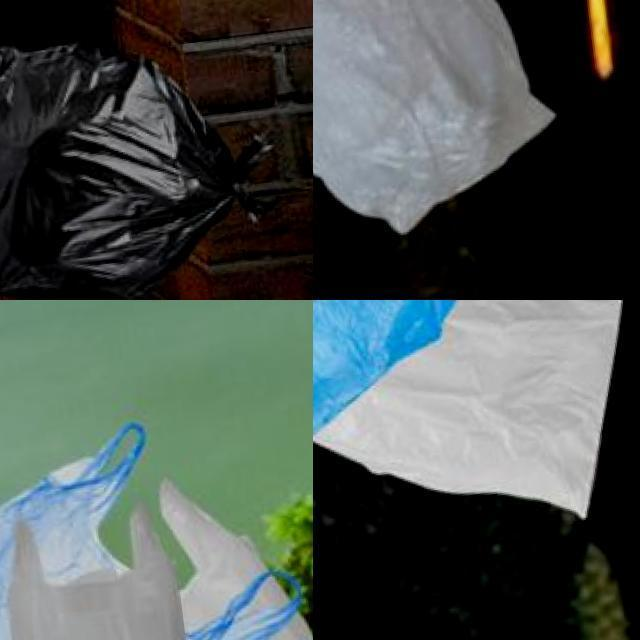waste: (0, 6, 271, 300), (0, 408, 313, 640), (313, 0, 571, 258), (76, 461, 313, 640), (313, 300, 476, 505), (0, 501, 211, 640)
